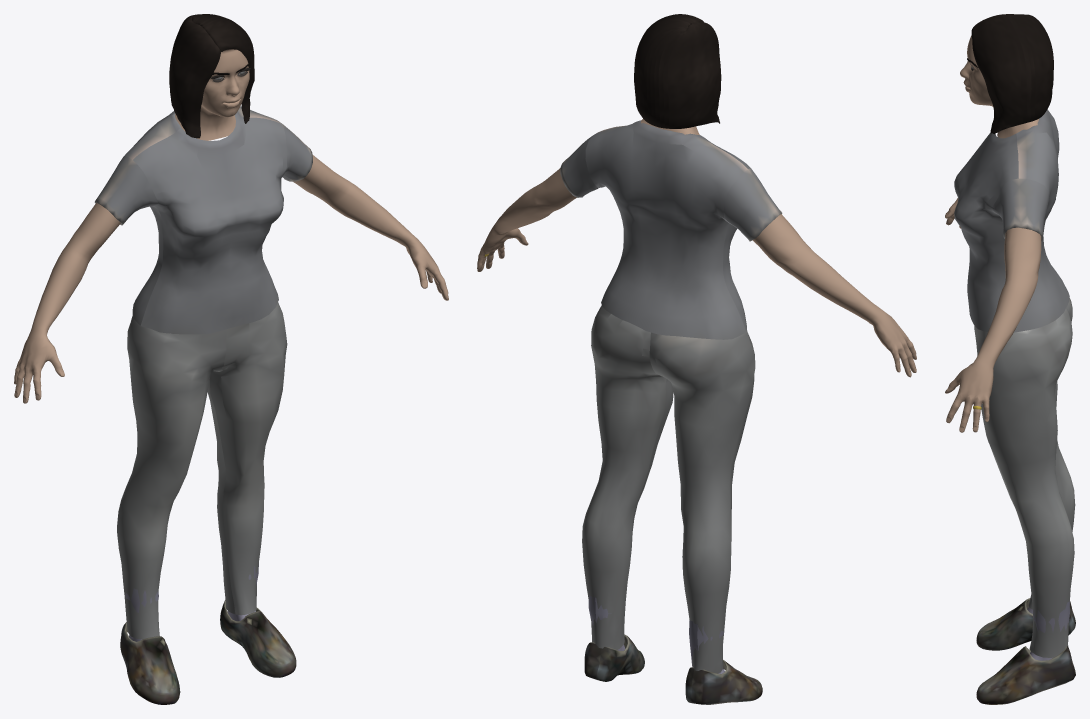
File: 0008-People-cast-cooked-mh-34.glb
3 renders of one model, left to right at view 1: azimuth 30°, elevation 25°; view 2: azimuth 150°, elevation 25°; view 3: azimuth 270°, elevation 25°, orthographic. The views are drawn at different scales.
Parts seen in each view (by area): view 1: People: cast (cooked)/mh_34; view 2: People: cast (cooked)/mh_34; view 3: People: cast (cooked)/mh_34.
Part boxes in pixels (x1,y1,x2,y2): People: cast (cooked)/mh_34: (14,14,448,704); People: cast (cooked)/mh_34: (477,14,916,704); People: cast (cooked)/mh_34: (945,14,1075,704).
Bounding box in the file's own units: 1.13 × 1.67 × 0.3021.
